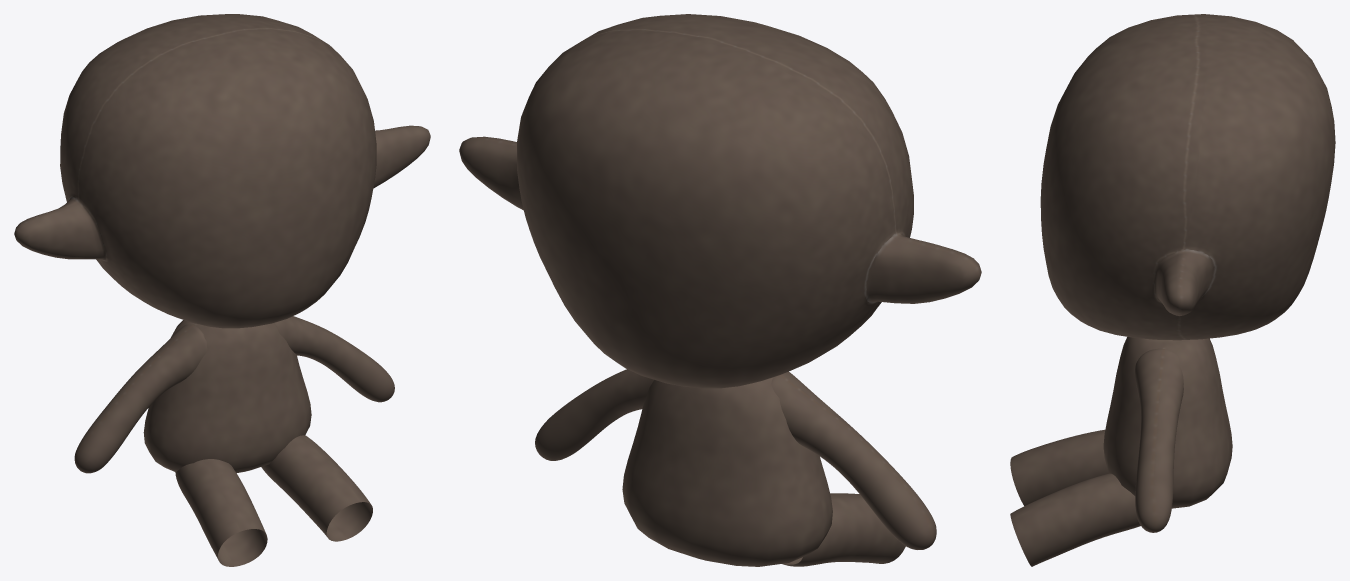
File: Brown.glb
The picture shows the model from 3 angles, left to right: view 1: azimuth 30°, elevation 25°; view 2: azimuth 150°, elevation 25°; view 3: azimuth 270°, elevation 25°; orthographic projection. The views are drawn at different scales.
Visible parts, largest first — view 1: Brown; view 2: Brown; view 3: Brown.
Boxes of the visible parts, x1,y1,x2,y2 form: Brown: (14,14,430,566); Brown: (459,14,981,566); Brown: (1010,14,1335,566).
Bounding box in the file's own units: 1.34 × 1.43 × 0.8478.
1 material, 1 textured.
